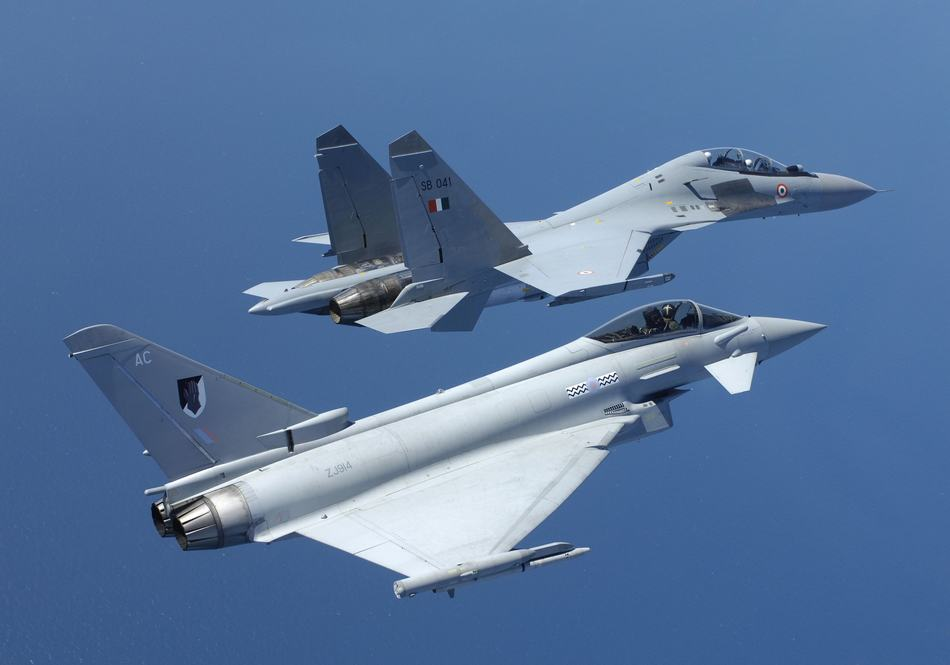airplane: (45, 279, 832, 593), (228, 119, 880, 335)
